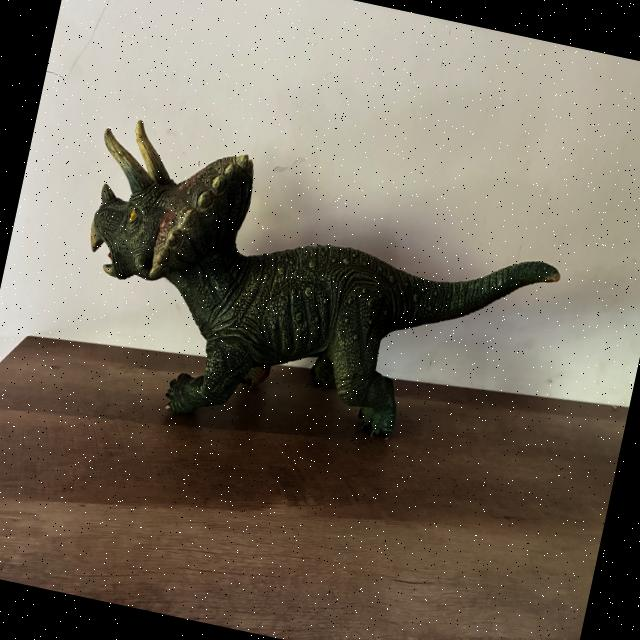dinosaur: (90, 121, 559, 438)
